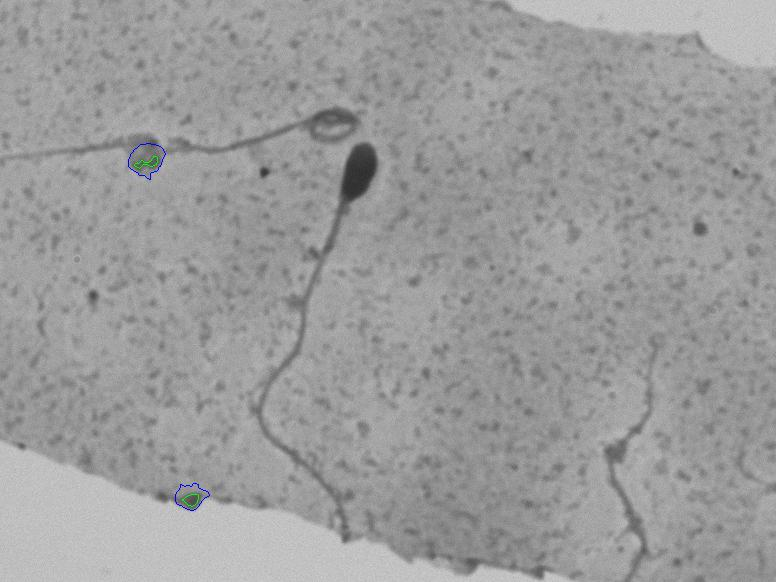Abnormal: (236, 134, 412, 517)
